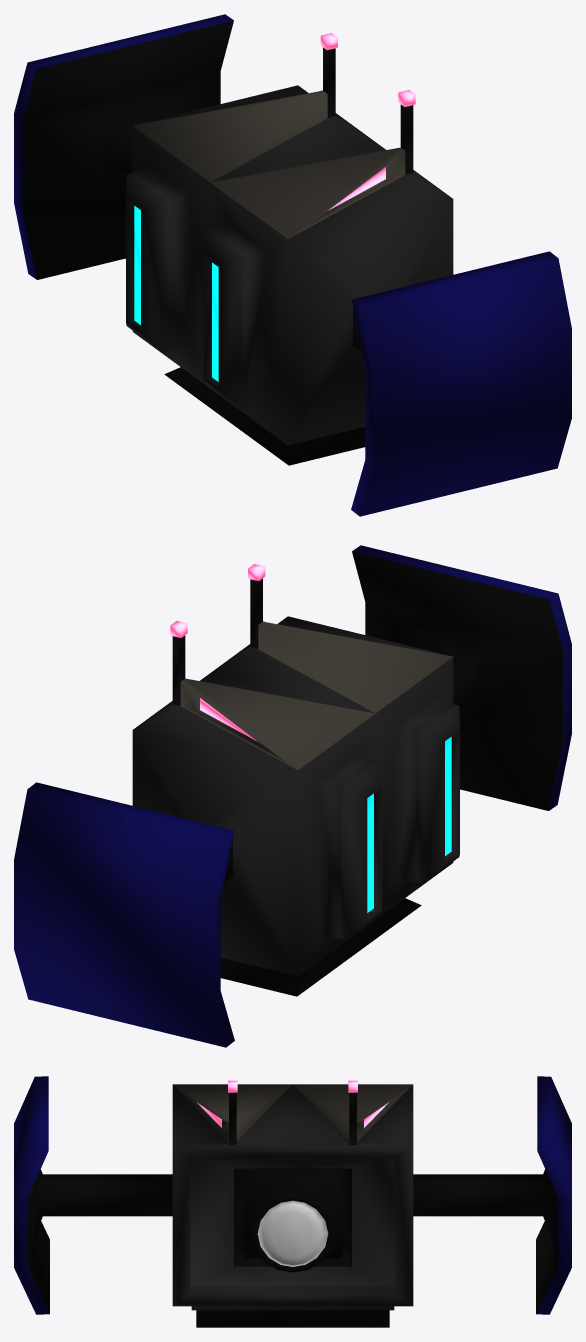
The model's file is Ennemy.fbx.
The picture shows the model from 3 angles, top to bottom: view 1: azimuth 30°, elevation 25°; view 2: azimuth 150°, elevation 25°; view 3: azimuth 270°, elevation 25°; orthographic projection. The views are drawn at different scales.
Parts seen in each view (by area): view 1: Cube; view 2: Cube; view 3: Cube.
Boxes of the visible parts, x1,y1,x2,y2 form: Cube: [14, 14, 571, 516]; Cube: [14, 545, 571, 1047]; Cube: [14, 1076, 571, 1327].
Size of the model in its own units: 274 by 370 by 754.
